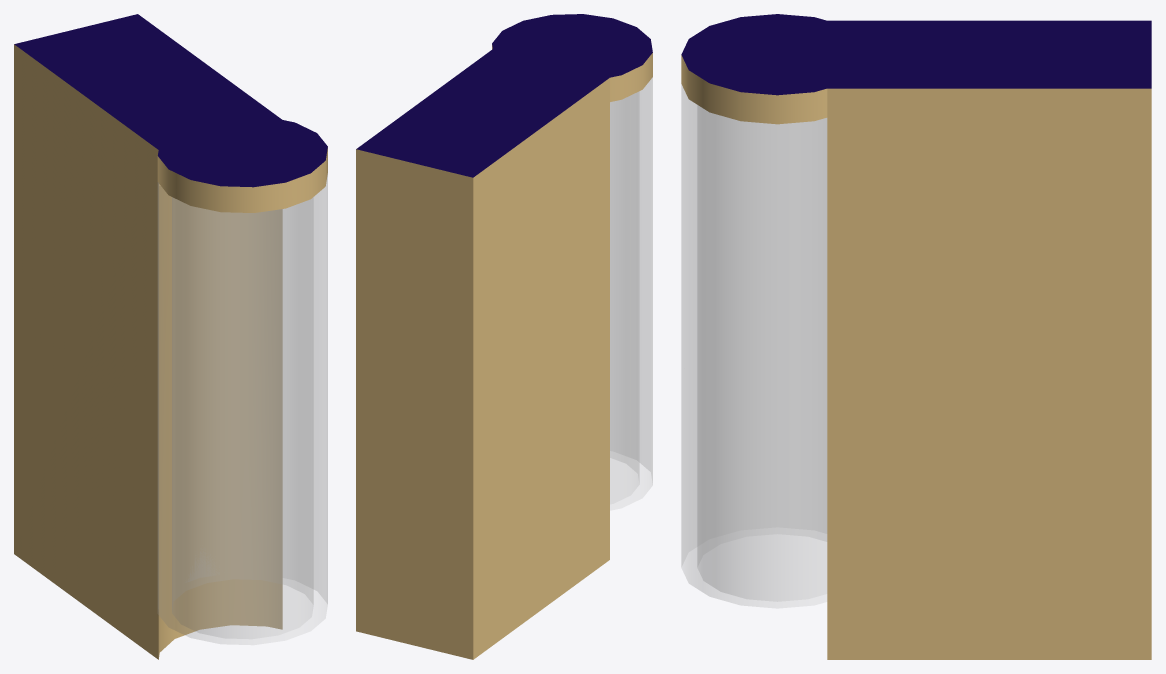
The model's file is mini-stacker.glb.
3 views of the same model, side by side, from view 1: azimuth 30°, elevation 25°; view 2: azimuth 150°, elevation 25°; view 3: azimuth 270°, elevation 25° (orthographic). The views are drawn at different scales.
Visible parts, largest first — view 1: arm-protection, support, base, arm-protection-lid; view 2: arm-protection, support, arm-protection-lid, base; view 3: arm-protection, support, arm-protection-lid, base.
Boxes of the visible parts, box(x1,y1,x2,y2) form: arm-protection: box(14, 14, 282, 659); support: box(158, 175, 327, 644); base: box(157, 115, 327, 212); arm-protection-lid: box(27, 19, 266, 142); arm-protection: box(356, 49, 609, 659); support: box(610, 77, 652, 510); arm-protection-lid: box(368, 56, 594, 172); base: box(492, 14, 652, 101); arm-protection: box(827, 20, 1151, 659); support: box(681, 84, 827, 608); arm-protection-lid: box(844, 25, 1140, 83); base: box(681, 14, 873, 124).
Size of the model in its own units: 0.09 by 0.295 by 0.22.
